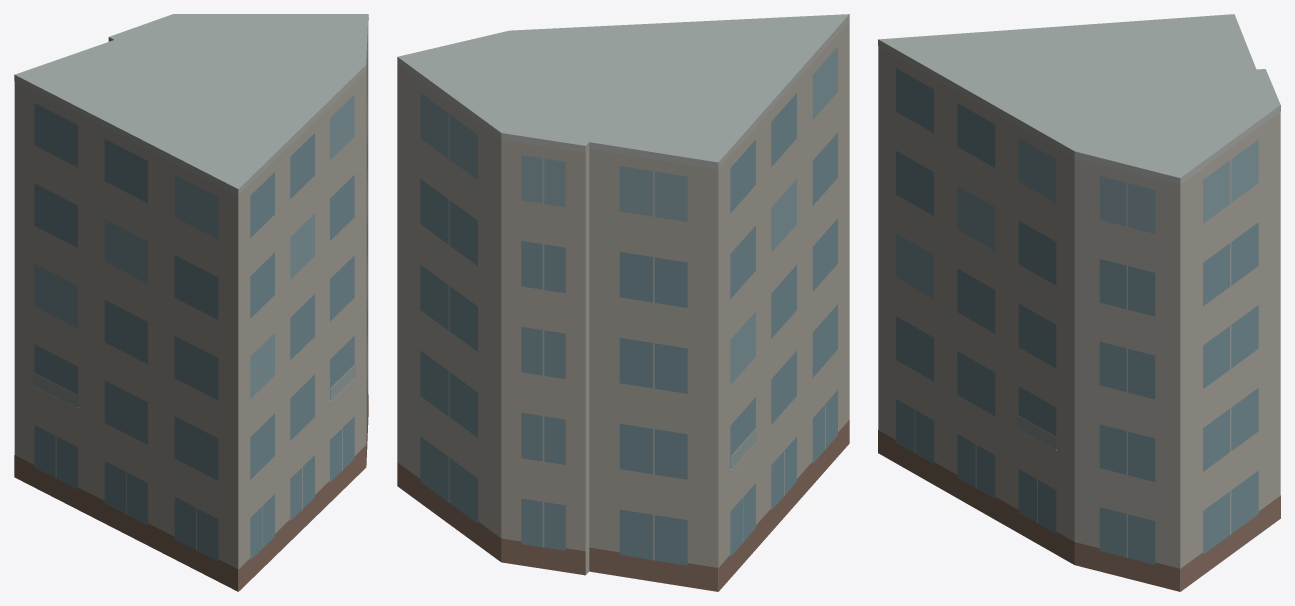
File: survey-upis-32967154.glb
3 renders of one model, left to right at view 1: azimuth 30°, elevation 25°; view 2: azimuth 150°, elevation 25°; view 3: azimuth 270°, elevation 25°, orthographic. The views are drawn at different scales.
Visible parts, largest first — view 1: survey-upis-32967154.tmp; view 2: survey-upis-32967154.tmp; view 3: survey-upis-32967154.tmp.
Boxes of the visible parts, left/top/right/bottom form: survey-upis-32967154.tmp: left=14, top=14, right=368, bottom=591; survey-upis-32967154.tmp: left=397, top=14, right=849, bottom=591; survey-upis-32967154.tmp: left=878, top=14, right=1280, bottom=591.
Bounding box in the file's own units: 12.72 × 14.94 × 13.19.
